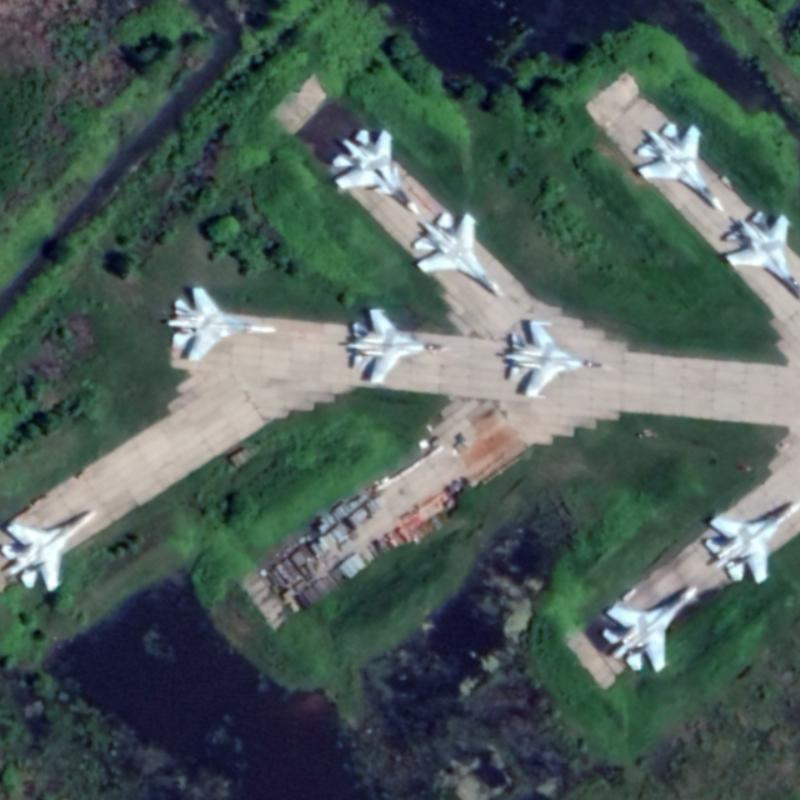A1: (499, 316, 615, 400), (163, 283, 279, 362), (599, 584, 698, 676), (340, 304, 452, 384), (631, 119, 726, 213), (408, 208, 507, 298), (700, 498, 799, 586), (0, 506, 95, 592), (719, 206, 799, 304)
A19: (329, 126, 423, 215)
